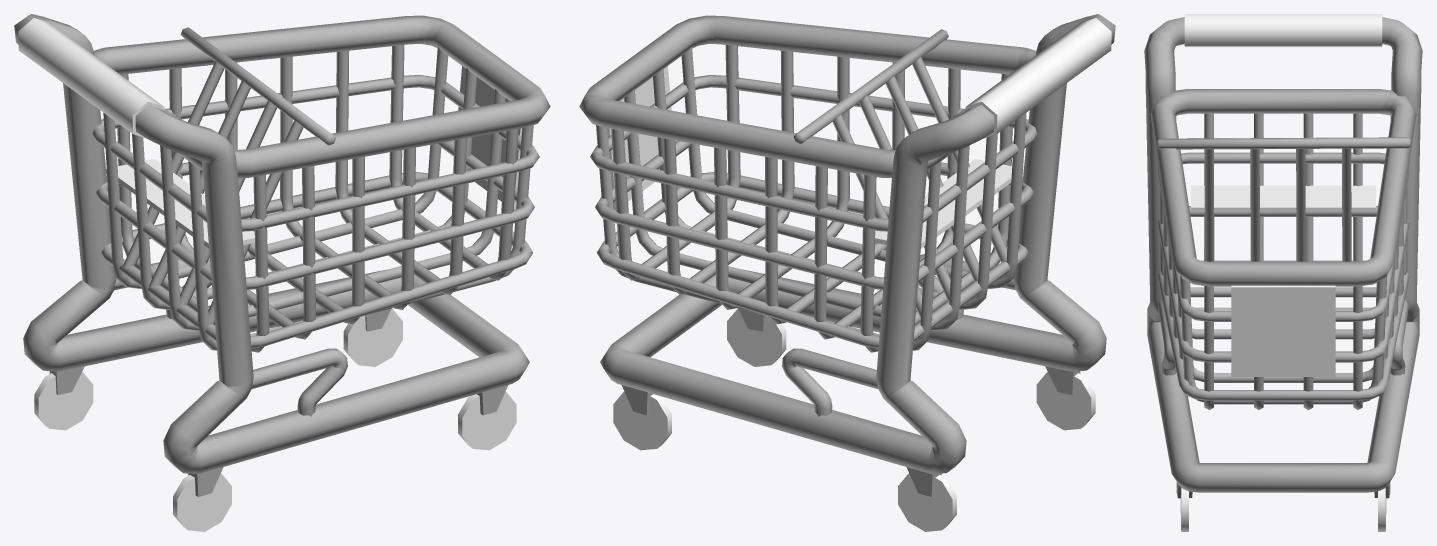
The model's file is ShoppingTrolley.fbx.
3 views of the same model, side by side, from view 1: azimuth 30°, elevation 25°; view 2: azimuth 150°, elevation 25°; view 3: azimuth 270°, elevation 25° (orthographic). The views are drawn at different scales.
Visible parts, largest first — view 1: ShoppingTrolley; view 2: ShoppingTrolley; view 3: ShoppingTrolley.
Boxes of the visible parts, left/top/right/bottom form: ShoppingTrolley: left=14, top=14, right=550, bottom=531; ShoppingTrolley: left=579, top=14, right=1115, bottom=531; ShoppingTrolley: left=1144, top=14, right=1422, bottom=531.
Bounding box in the file's own units: 110 × 106 × 72.08.
